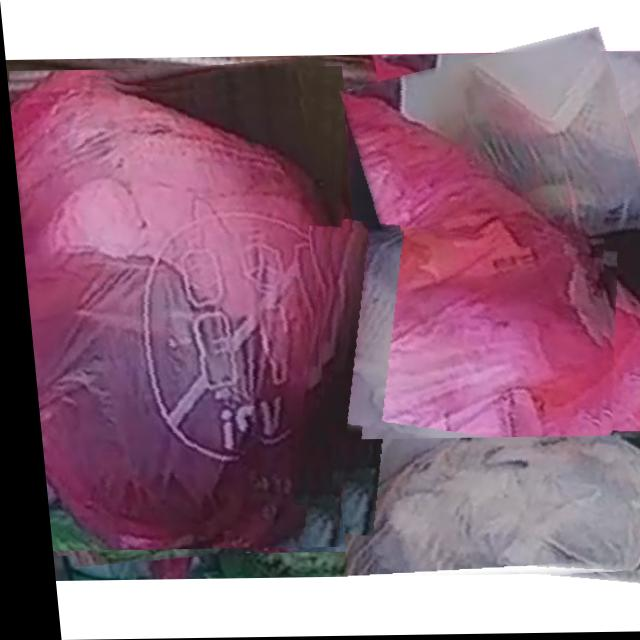other_trashbag: (8, 82, 339, 550), (338, 92, 640, 452), (321, 231, 598, 486), (334, 438, 640, 575)
